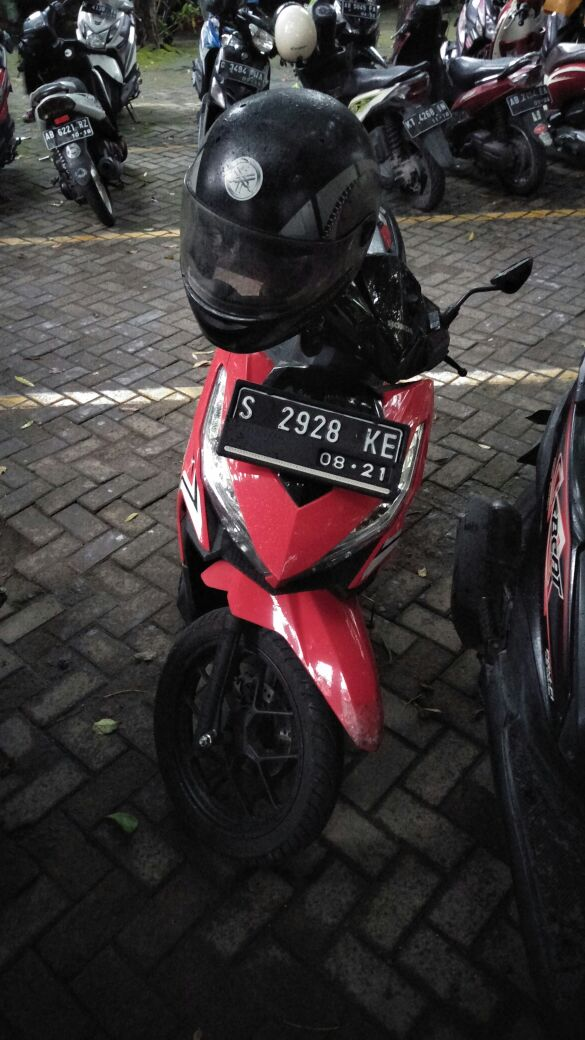plate: (224, 382, 405, 492)
